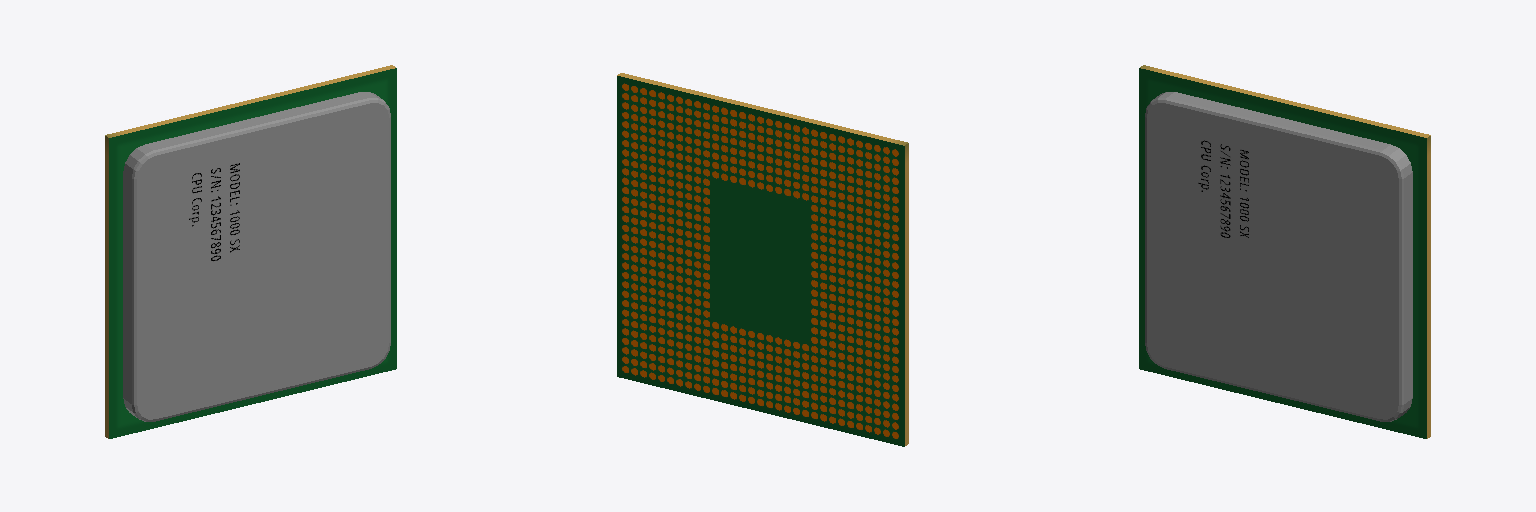
3 views of the same model, side by side, from view 1: azimuth 30°, elevation 25°; view 2: azimuth 150°, elevation 25°; view 3: azimuth 330°, elevation 25° (orthographic).
Parts seen in each view (by area): view 1: CPU; view 2: CPU; view 3: CPU.
Boxes of the visible parts, <box> form: CPU: <box>105,65,396,438</box>; CPU: <box>617,73,908,446</box>; CPU: <box>1139,65,1430,438</box>.
Size of the model in its own units: 4 by 4 by 0.35.
1 materials, 1 textured.